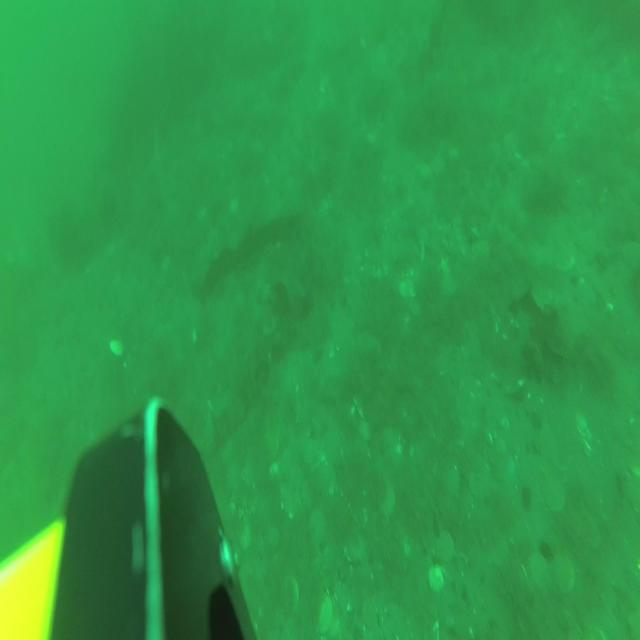scallop: (541, 473, 567, 518), (485, 526, 508, 572), (526, 546, 548, 592), (553, 551, 575, 597), (532, 423, 557, 461), (435, 526, 458, 564), (467, 464, 491, 500), (281, 572, 301, 615), (306, 507, 326, 545), (342, 534, 367, 564), (316, 594, 334, 634), (361, 594, 381, 630), (376, 483, 396, 519), (426, 564, 447, 595), (444, 464, 461, 499), (356, 417, 374, 444), (109, 337, 126, 357)
